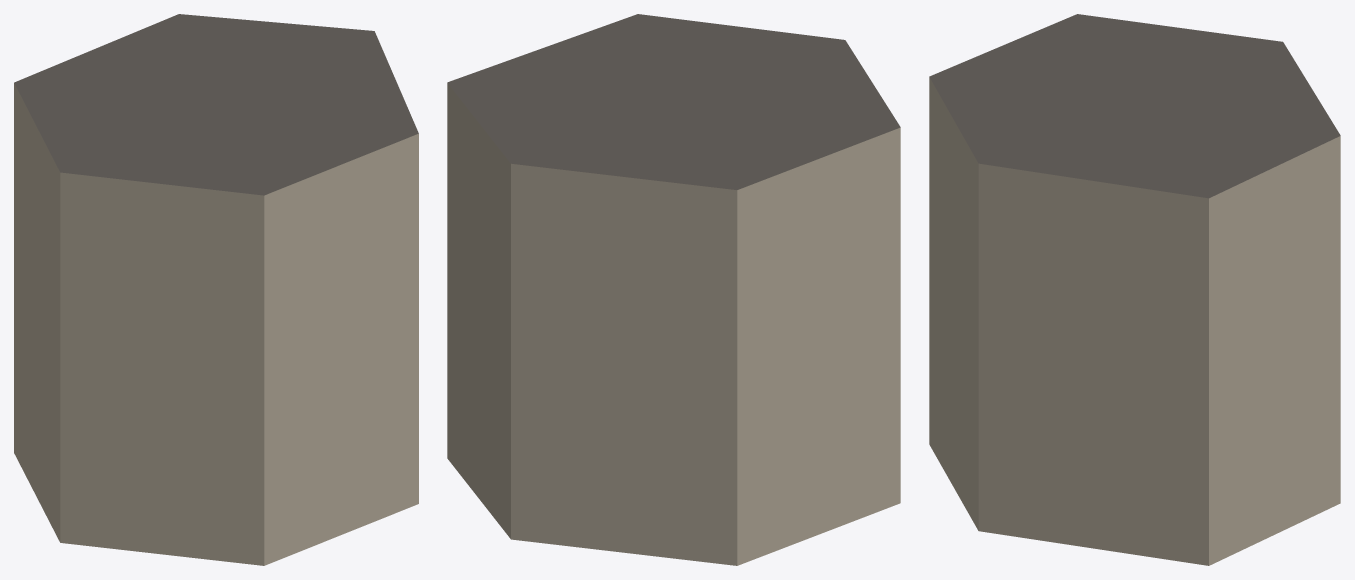
3 views of the same model, side by side, from view 1: azimuth 30°, elevation 25°; view 2: azimuth 150°, elevation 25°; view 3: azimuth 270°, elevation 25° (orthographic). The views are drawn at different scales.
Parts seen in each view (by area): view 1: tuile; view 2: tuile; view 3: tuile.
Part boxes in pixels (x1,y1,x2,y2): tuile: [14, 14, 418, 565]; tuile: [447, 14, 900, 565]; tuile: [929, 14, 1340, 565].
Size of the model in its own units: 5.3 by 4.93 by 5.
